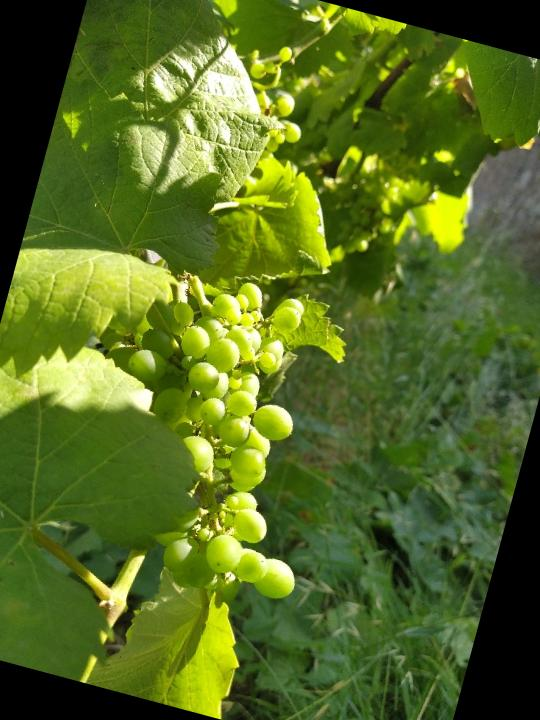grape: (65, 237, 374, 620)
